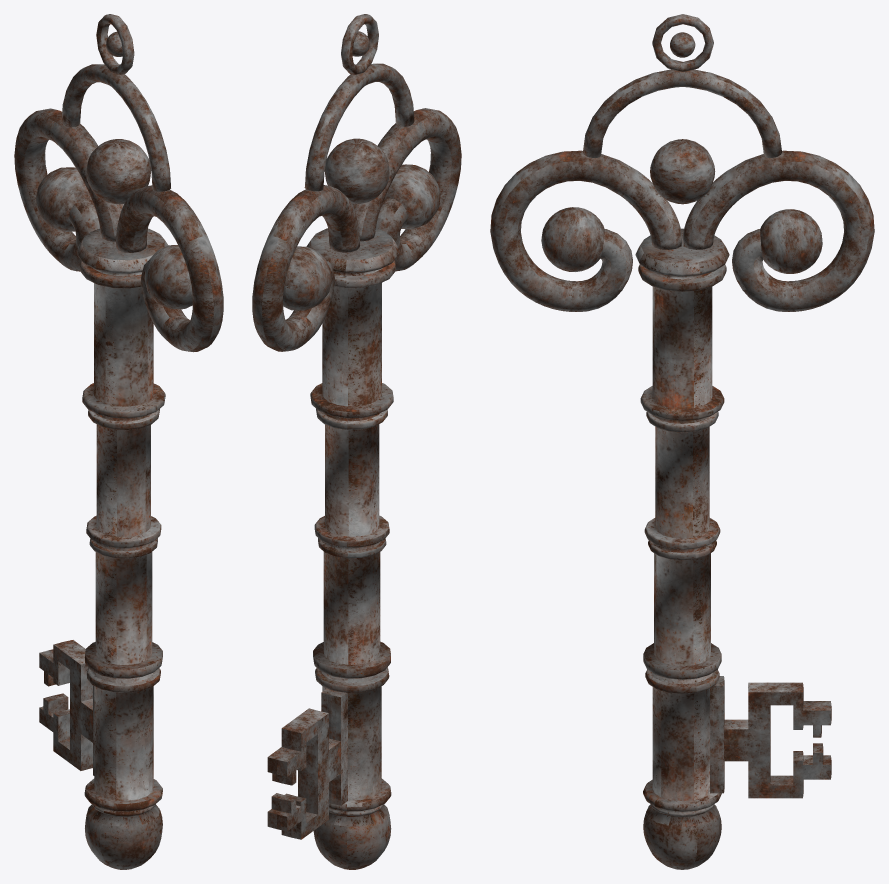
The model's file is LLave con texturas 1.fbx.
The picture shows the model from 3 angles, left to right: view 1: azimuth 30°, elevation 25°; view 2: azimuth 150°, elevation 25°; view 3: azimuth 270°, elevation 25°; orthographic projection.
Visible parts, largest first — view 1: Llave3, BezierCurve.003, Llave3 .001, BezierCurve.002, Sphere.002, Sphere.004, Sphere.003, Circle; view 2: Llave3, BezierCurve.003, Llave3 .001, BezierCurve.002, Sphere.002, Sphere.003, Sphere.004, Circle; view 3: Llave3, BezierCurve.003, Llave3 .001, BezierCurve.002, Sphere.002, Sphere.004, Sphere.003, Circle.
Boxes of the visible parts, x1,y1,x2,y2 form: Llave3: [77, 228, 168, 869]; BezierCurve.003: [14, 108, 223, 352]; Llave3 .001: [39, 640, 94, 775]; BezierCurve.002: [61, 64, 170, 191]; Sphere.002: [86, 139, 151, 204]; Sphere.004: [144, 245, 192, 309]; Sphere.003: [36, 167, 91, 231]; Circle: [96, 14, 134, 74]; Llave3: [306, 228, 398, 869]; BezierCurve.003: [252, 108, 461, 351]; Llave3 .001: [267, 688, 347, 839]; BezierCurve.002: [304, 63, 414, 191]; Sphere.002: [324, 138, 389, 203]; Sphere.003: [283, 246, 331, 310]; Sphere.004: [384, 164, 440, 229]; Circle: [341, 14, 378, 74]; Llave3: [635, 228, 729, 869]; BezierCurve.003: [490, 150, 874, 311]; Llave3 .001: [710, 676, 831, 798]; BezierCurve.002: [583, 69, 781, 157]; Sphere.002: [650, 139, 715, 204]; Sphere.004: [541, 207, 604, 271]; Sphere.003: [760, 209, 822, 273]; Circle: [652, 14, 713, 71].
Bounding box in the file's own units: 43.65 × 435 × 179.
1 material, 1 textured.
